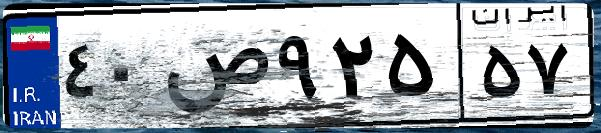0: (110, 28, 158, 98)
2: (330, 28, 385, 110)
4: (57, 26, 110, 100)
5: (385, 28, 445, 110), (475, 38, 525, 113)
7: (525, 38, 570, 115)
9: (270, 28, 330, 110)
ص: (158, 20, 270, 120)
